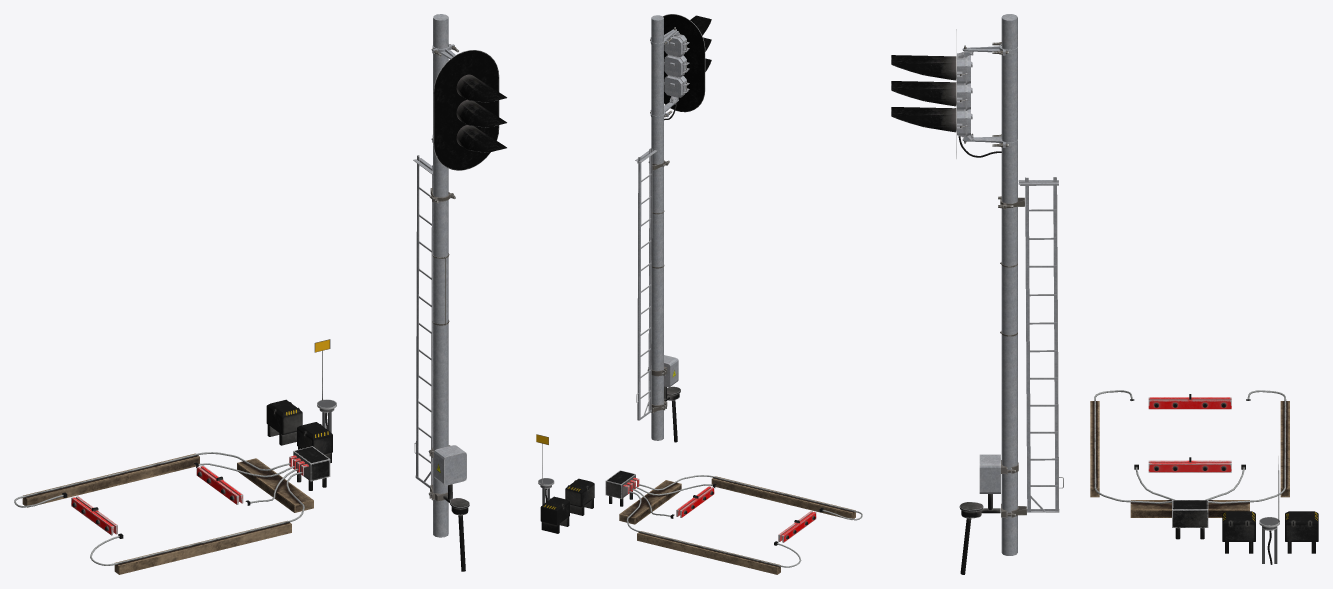
File: RM_sig_P_MM2_YGR_3_line.gltf
3 renders of one model, left to right at view 1: azimuth 30°, elevation 25°; view 2: azimuth 150°, elevation 25°; view 3: azimuth 270°, elevation 25°, orthographic. The views are drawn at different scales.
Visible parts, largest first — view 1: Светофор 3, Изостык; view 2: Светофор 3, Изостык; view 3: Светофор 3, Изостык.
Part boxes in pixels (x1,y1,x2,y2): Светофор 3: (413, 14, 507, 571); Изостык: (14, 339, 336, 574); Светофор 3: (635, 14, 711, 442); Изостык: (536, 434, 862, 574); Светофор 3: (891, 14, 1063, 574); Изостык: (1090, 390, 1318, 564).
Size of the model in its own units: 4.22 by 6.54 by 4.55.
Materials: 3 (2 with a texture image).
